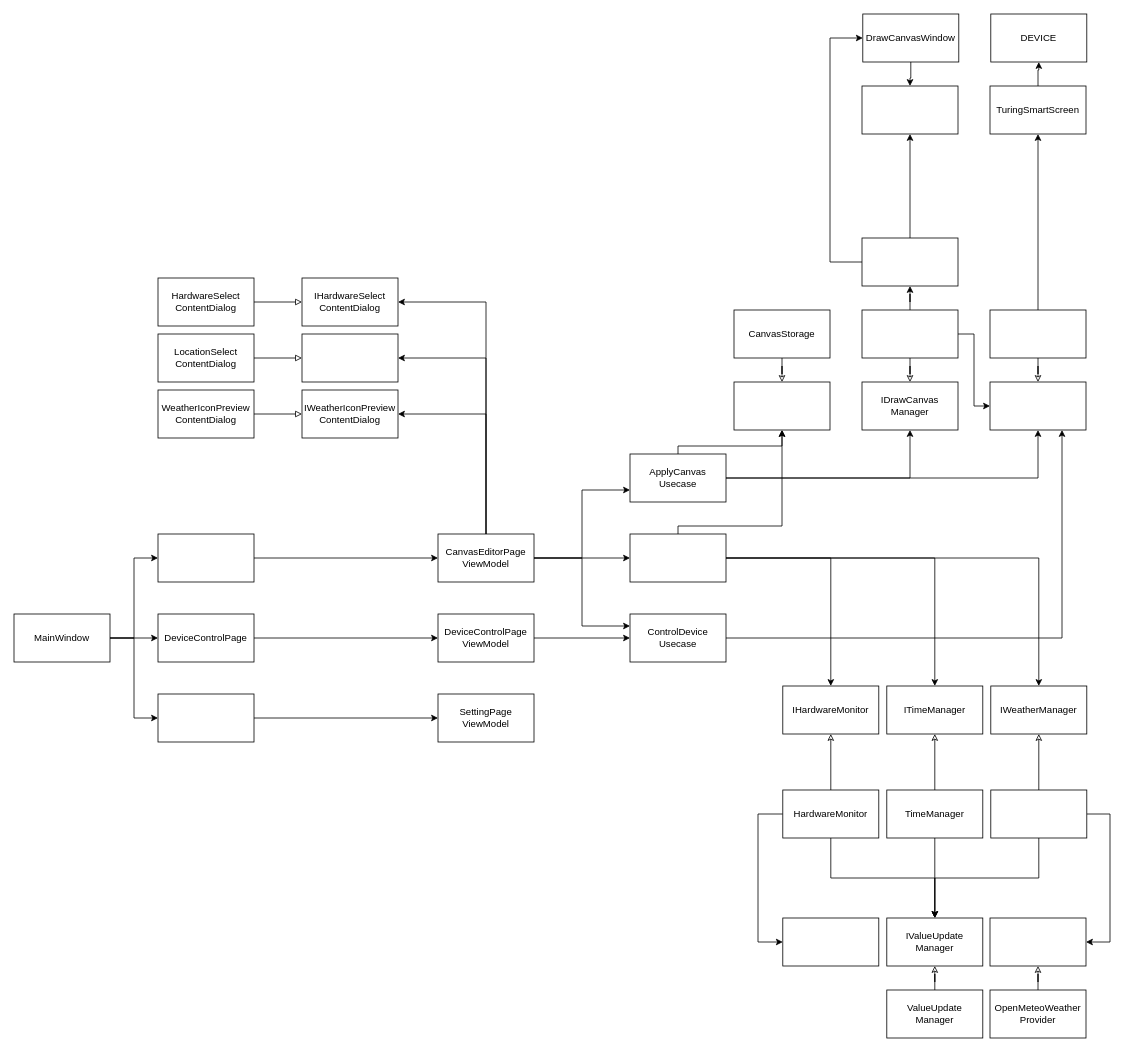
The diagram is 1130 pixels wide and 1052 high, and some of its shapes have lost their labels. The box of each missing label's shape, as (x1, y1, x2, y2) in pixels:
CanvasEditorPage: (157, 533, 254, 582)
DrawCanvas Factory: (861, 237, 958, 286)
DrawCanvas Manager: (861, 309, 958, 358)
DrawCanvasWindow ViewModel: (861, 85, 958, 134)
EditCanvas Usecase: (629, 533, 726, 582)
ICanvasStorage: (733, 381, 830, 430)
ILocationSelect ContentDialog: (301, 333, 398, 382)
IScreenDevice Manager: (989, 381, 1086, 430)
IWeatherProvider: (989, 917, 1086, 966)
OpenHardware Monitor: (782, 917, 879, 966)
ScreenDevice Service: (989, 309, 1086, 358)
SettingPage: (157, 693, 254, 742)
WeatherManager: (990, 789, 1087, 838)
